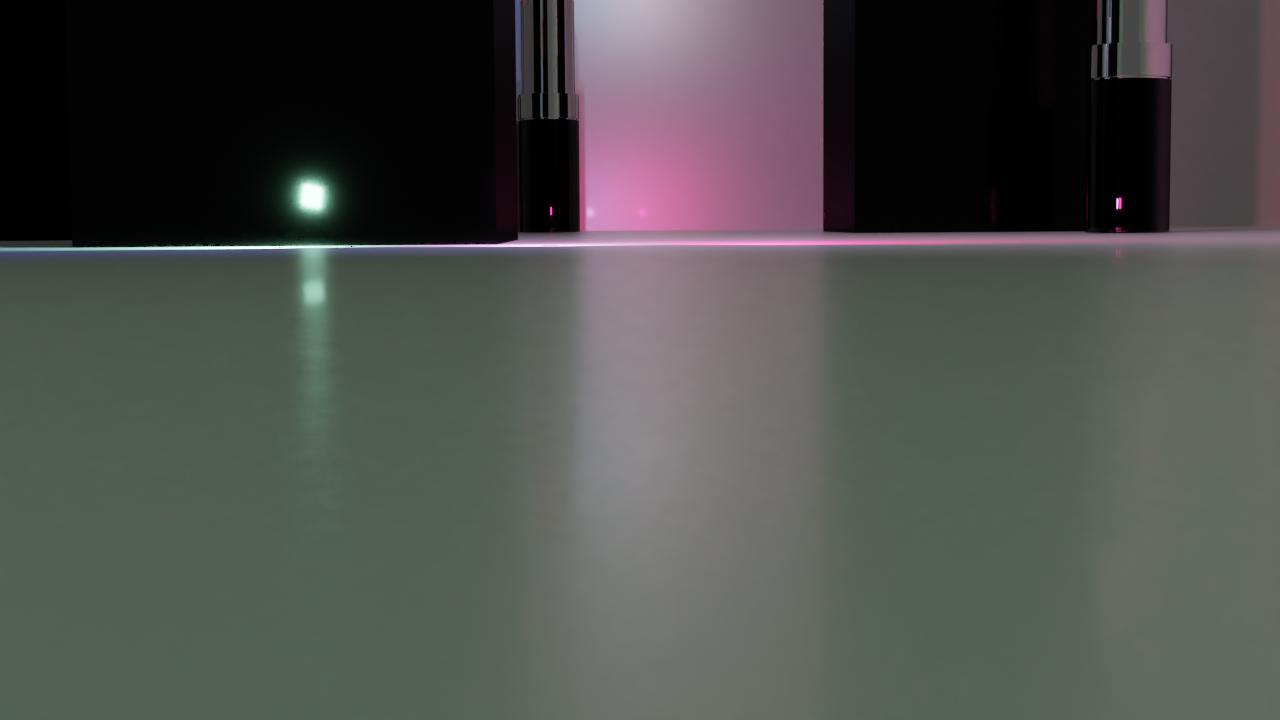CLASSIFIER_NAME: (1083, 0, 1175, 233), (517, 0, 580, 233)
